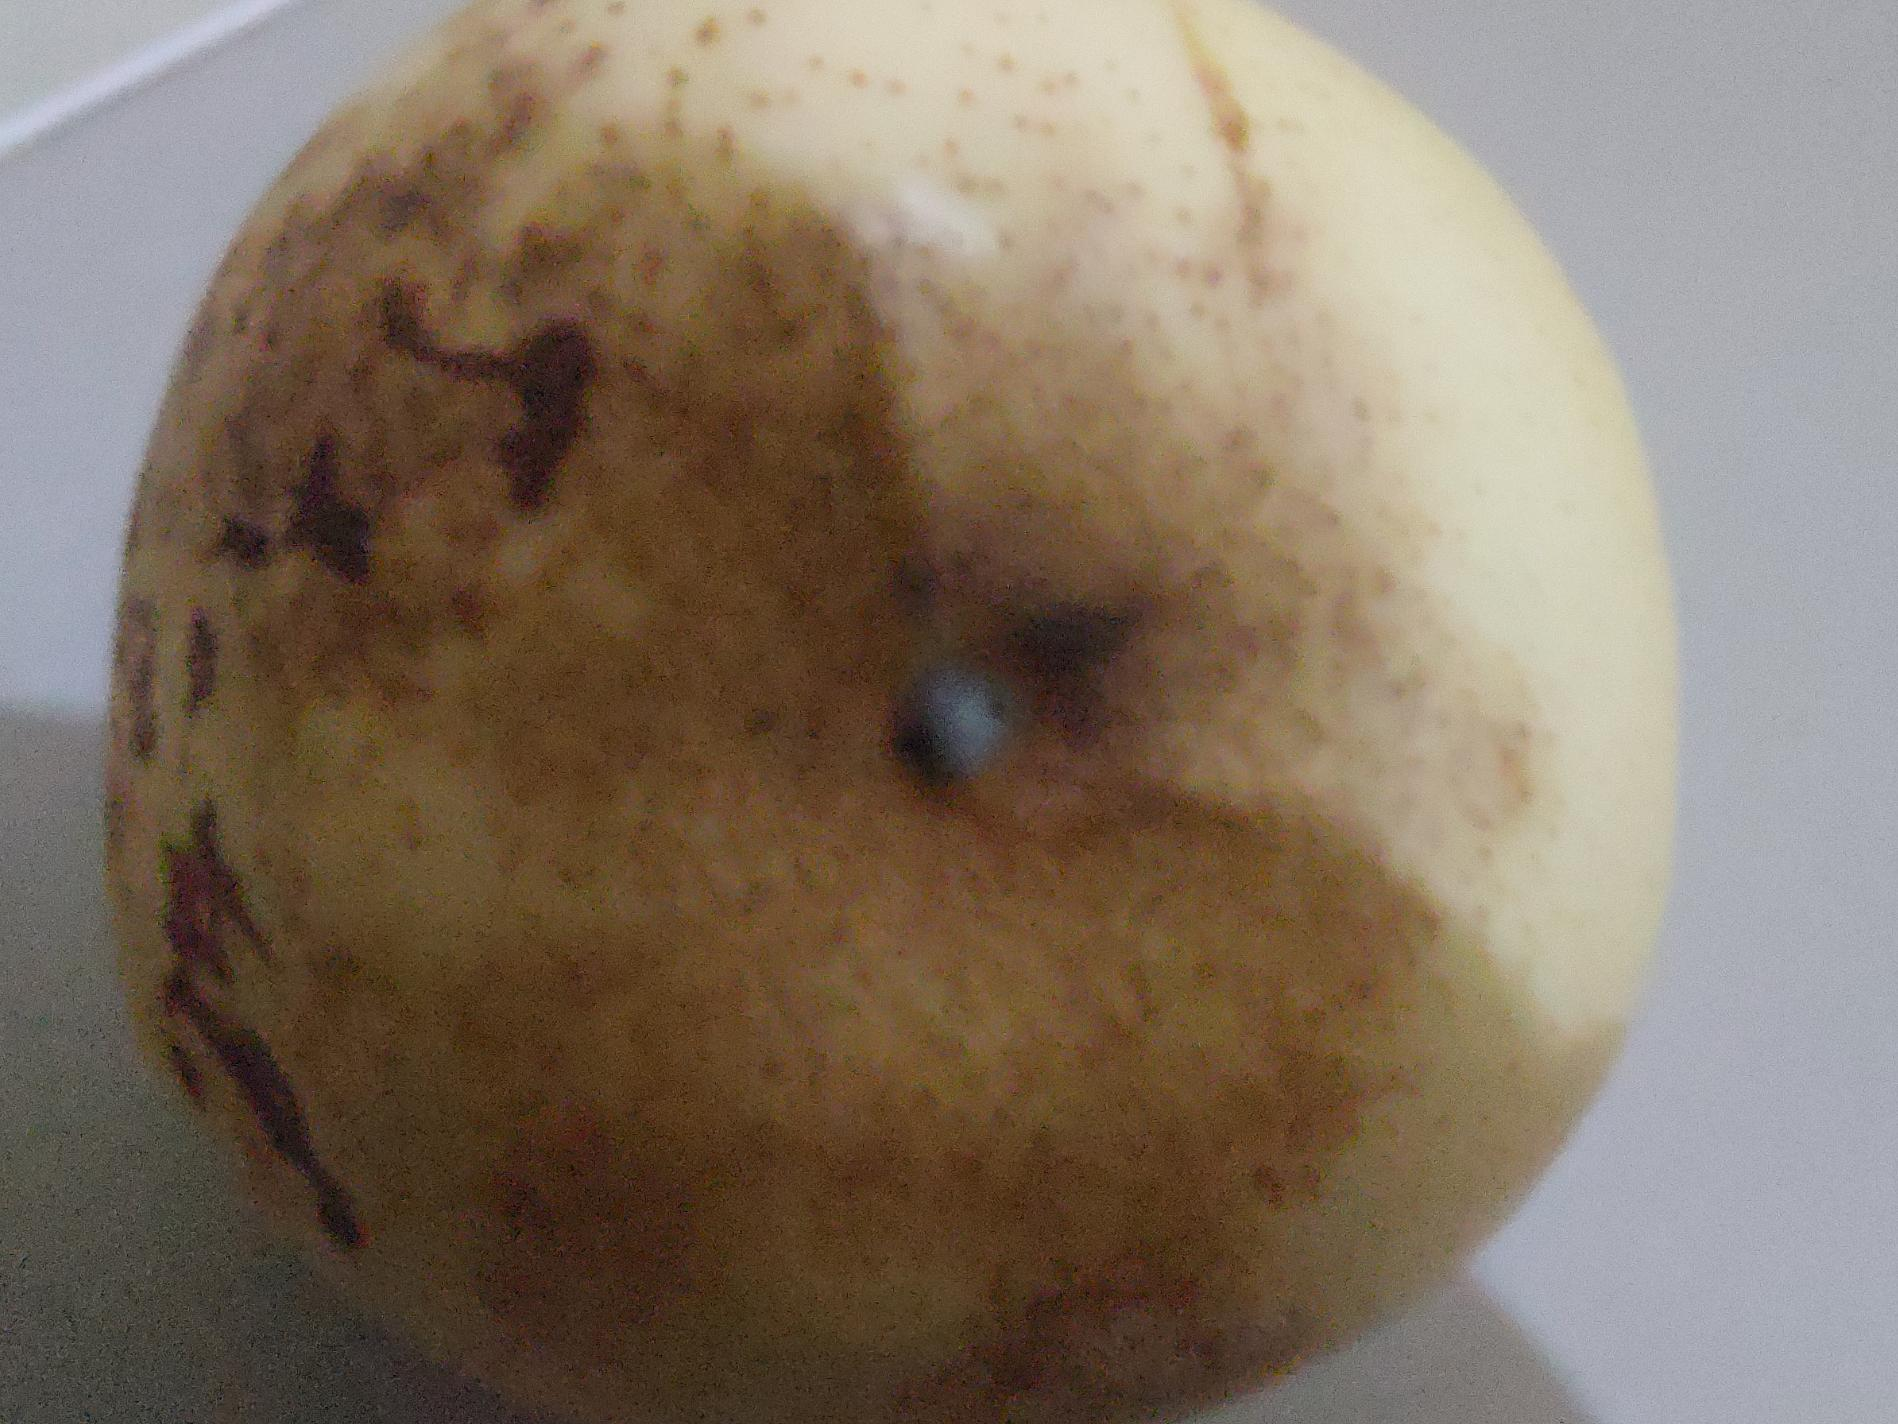Bad Pear: (87, 0, 1716, 1424)
